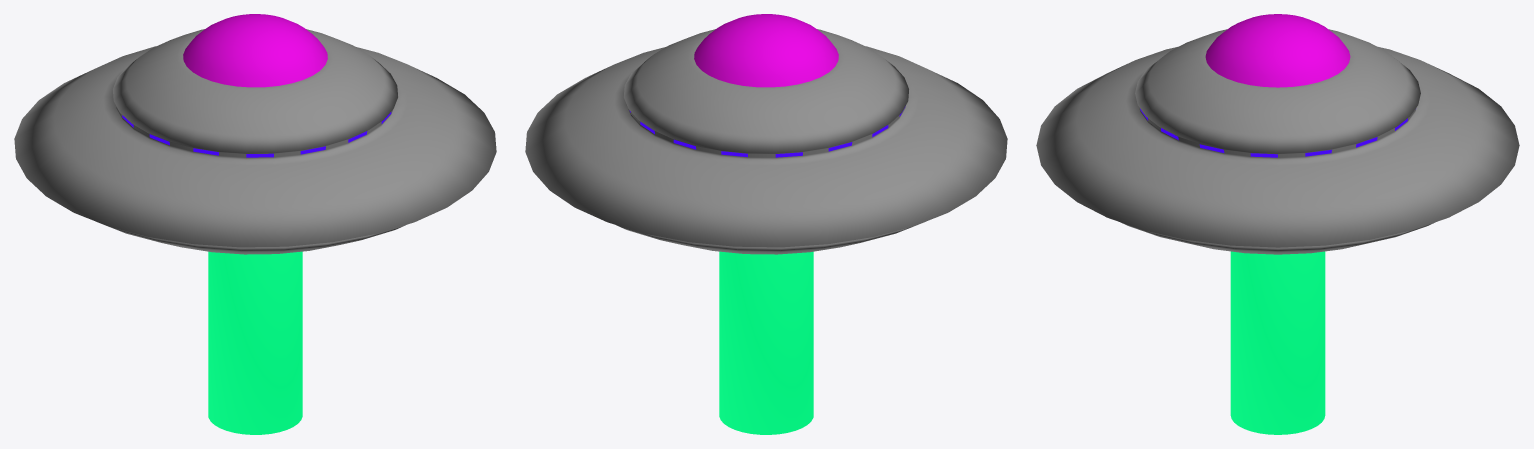
The model's file is UFO.glb.
3 renders of one model, left to right at view 1: azimuth 30°, elevation 25°; view 2: azimuth 150°, elevation 25°; view 3: azimuth 270°, elevation 25°, orthographic.
Parts seen in each view (by area): view 1: UFO, UFO_Ray; view 2: UFO, UFO_Ray; view 3: UFO, UFO_Ray.
Boxes of the visible parts, x1,y1,x2,y2 form: UFO: (14,14,496,254); UFO_Ray: (208,251,302,434); UFO: (525,14,1007,254); UFO_Ray: (719,251,813,434); UFO: (1036,14,1519,254); UFO_Ray: (1230,251,1325,434).
Size of the model in its own units: 1.02 by 0.911 by 1.02.
